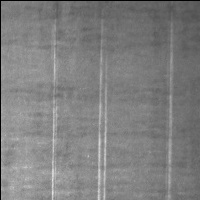scratches: (95, 33, 111, 200), (164, 21, 177, 198), (49, 24, 61, 200)
